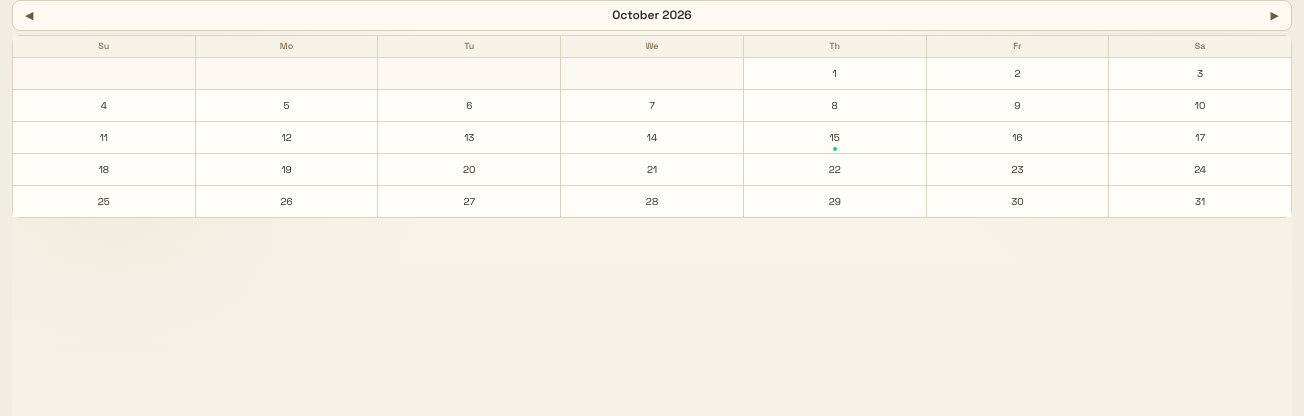
Scenario: Calendar › loads the month with the access token and lists a day's appointments
Click the button "15" at (835, 138), box [744,122,926,153]
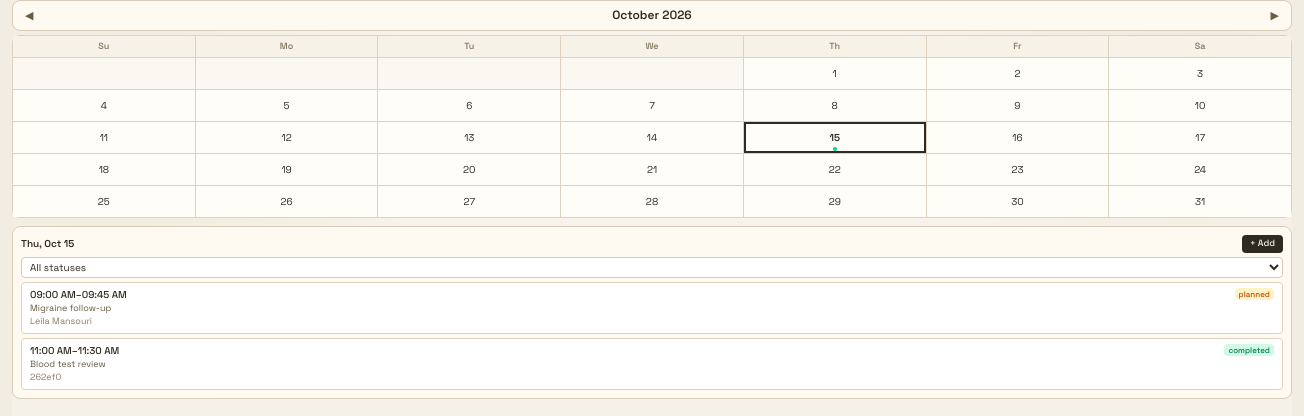
Check: the text "Migraine follow-up" is shown, box [30,302,111,314]
Check: the text "Leila Mansouri" is shown, box [30,315,92,327]
Check: the text "262ef0" is shown, box [30,371,61,383]
